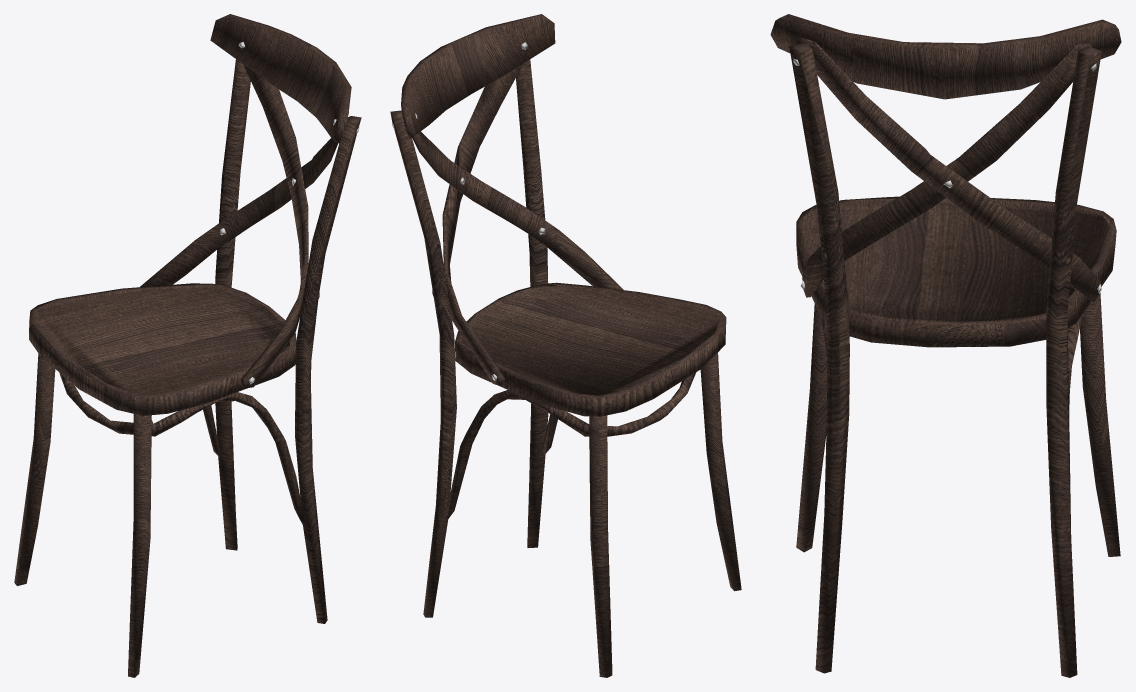
File: chair.fbx
3 renders of one model, left to right at view 1: azimuth 30°, elevation 25°; view 2: azimuth 150°, elevation 25°; view 3: azimuth 270°, elevation 25°, orthographic. The views are drawn at different scales.
Visible parts, largest first — view 1: CHAIR_150; view 2: CHAIR_150; view 3: CHAIR_150.
Part boxes in pixels (left/top/right/bottom): CHAIR_150: left=14, top=14, right=361, bottom=677; CHAIR_150: left=390, top=14, right=741, bottom=677; CHAIR_150: left=770, top=14, right=1121, bottom=677.
Size of the model in its own units: 43.42 by 83.06 by 40.02.
